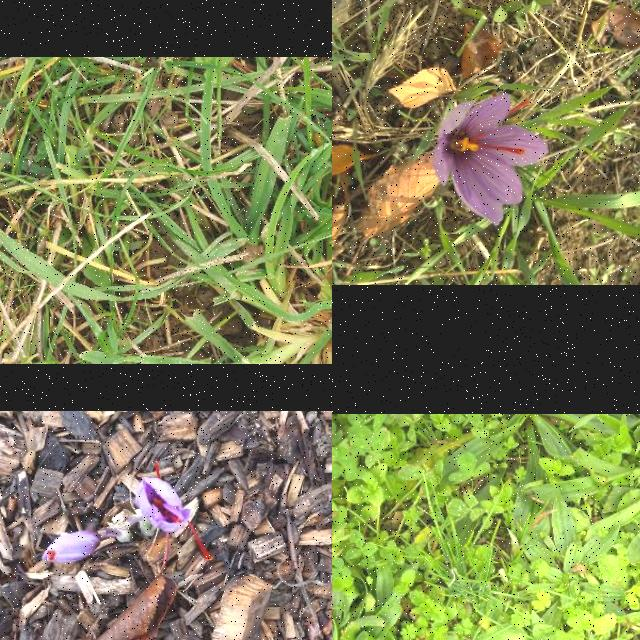flower: (434, 94, 548, 226), (138, 464, 212, 560), (42, 530, 102, 566)
